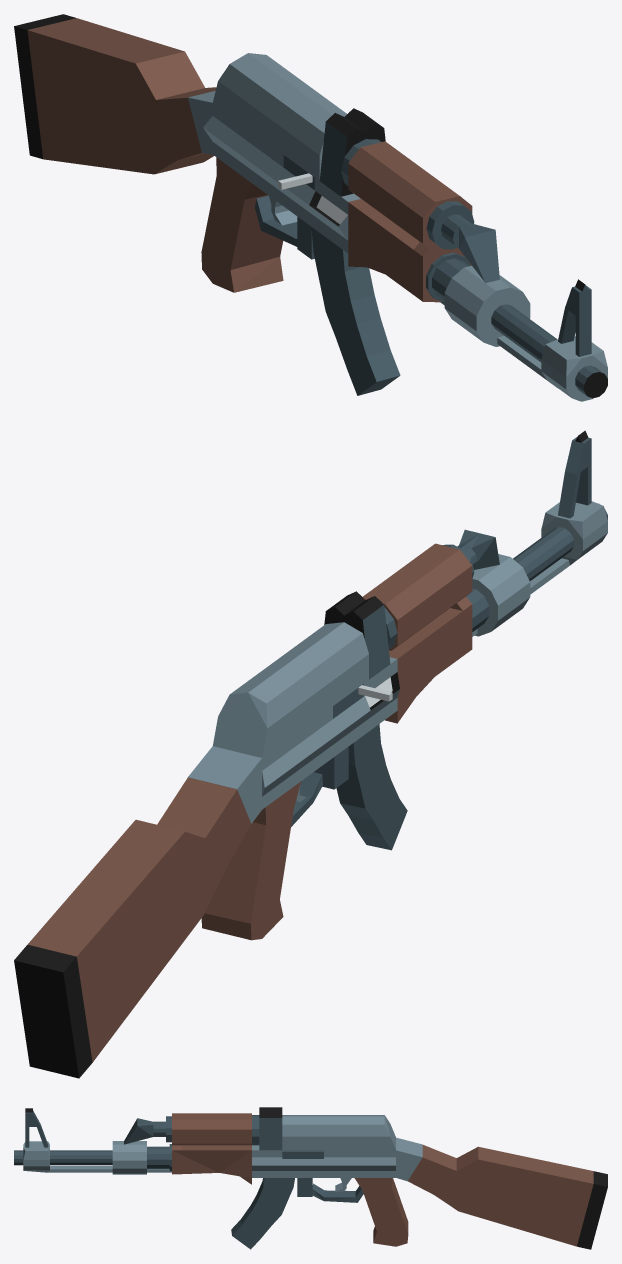
3 renders of one model, top to bottom at view 1: azimuth 30°, elevation 25°; view 2: azimuth 150°, elevation 25°; view 3: azimuth 270°, elevation 25°, orthographic. The views are drawn at different scales.
Visible parts, largest first — view 1: group_767204699, group_1433166684; view 2: group_767204699, group_1433166684; view 3: group_767204699, group_1433166684.
Part boxes in pixels (<box>): group_767204699: <box>14,14,607,401</box>; group_1433166684: <box>311,227,400,395</box>; group_767204699: <box>14,430,607,1078</box>; group_1433166684: <box>336,724,407,850</box>; group_767204699: <box>14,1107,607,1249</box>; group_1433166684: <box>231,1178,294,1249</box>.
Bounding box in the file's own units: 14 × 40.51 × 156.
